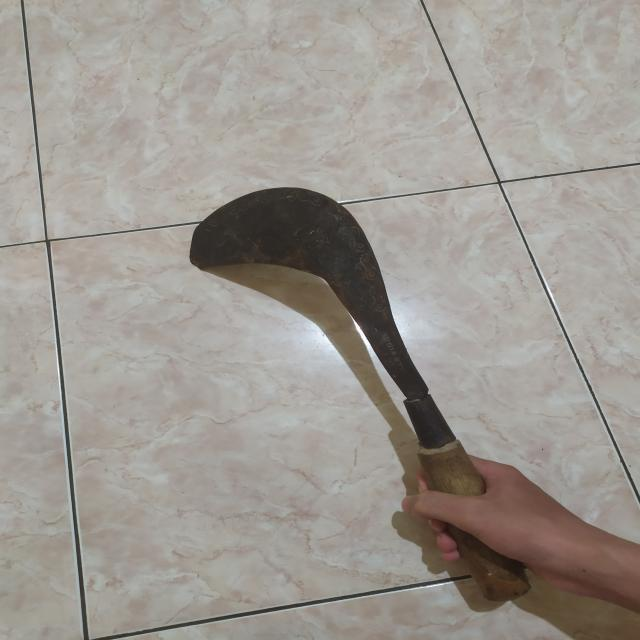Knife: (192, 188, 534, 599)
